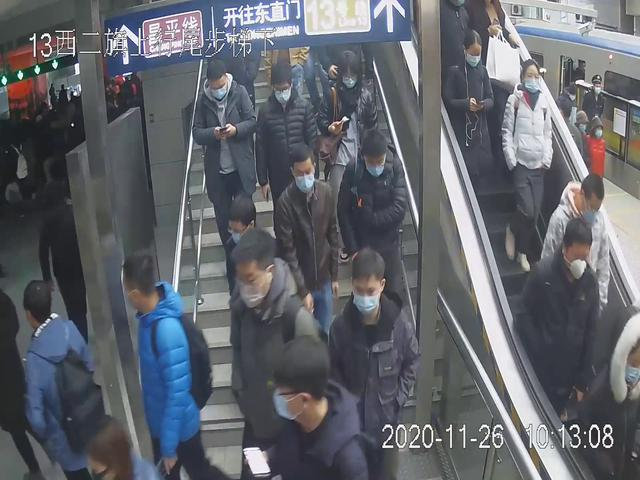person: (120, 248, 231, 480), (222, 228, 316, 480), (332, 248, 422, 480), (519, 215, 608, 438), (192, 53, 262, 295), (272, 141, 342, 354), (250, 59, 324, 245), (340, 131, 412, 322), (312, 45, 382, 212), (501, 56, 553, 275), (442, 24, 498, 214)
